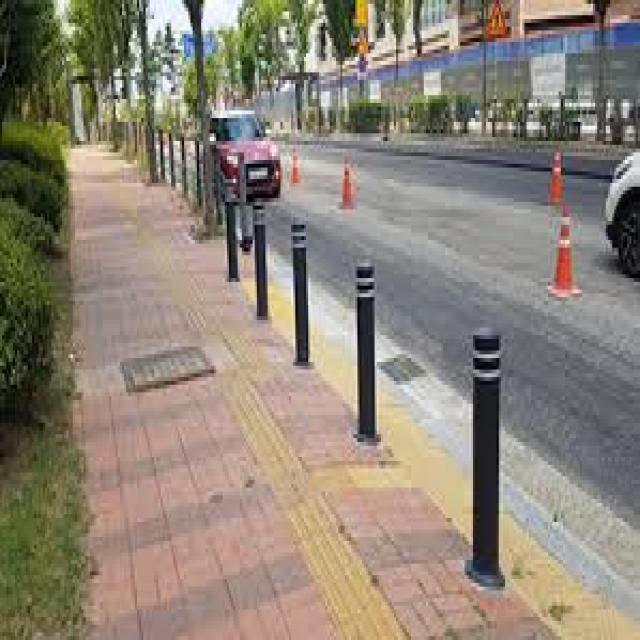bollard: (464, 320, 510, 593), (351, 252, 386, 450), (288, 215, 317, 370), (246, 190, 272, 326), (222, 186, 241, 284)
